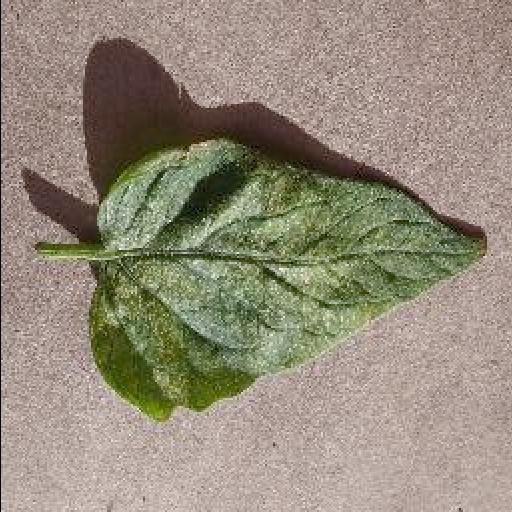disease_tomato: (86, 141, 486, 419)
